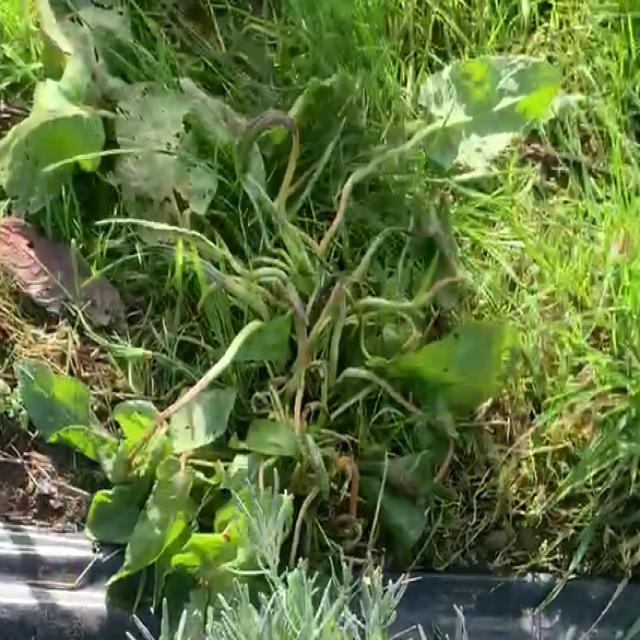organic waste: (3, 0, 574, 610)
